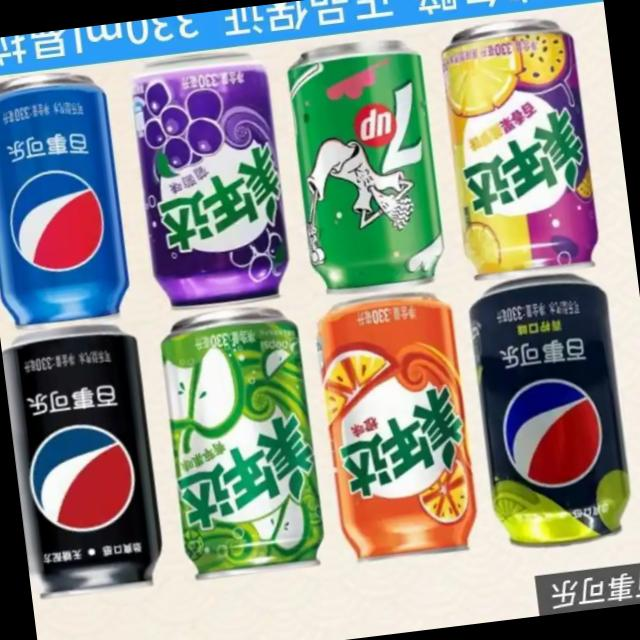can: (462, 267, 640, 559), (308, 282, 487, 571), (152, 300, 331, 586), (432, 7, 610, 287), (122, 44, 300, 319), (0, 319, 170, 605), (280, 29, 453, 301), (0, 63, 137, 335)
